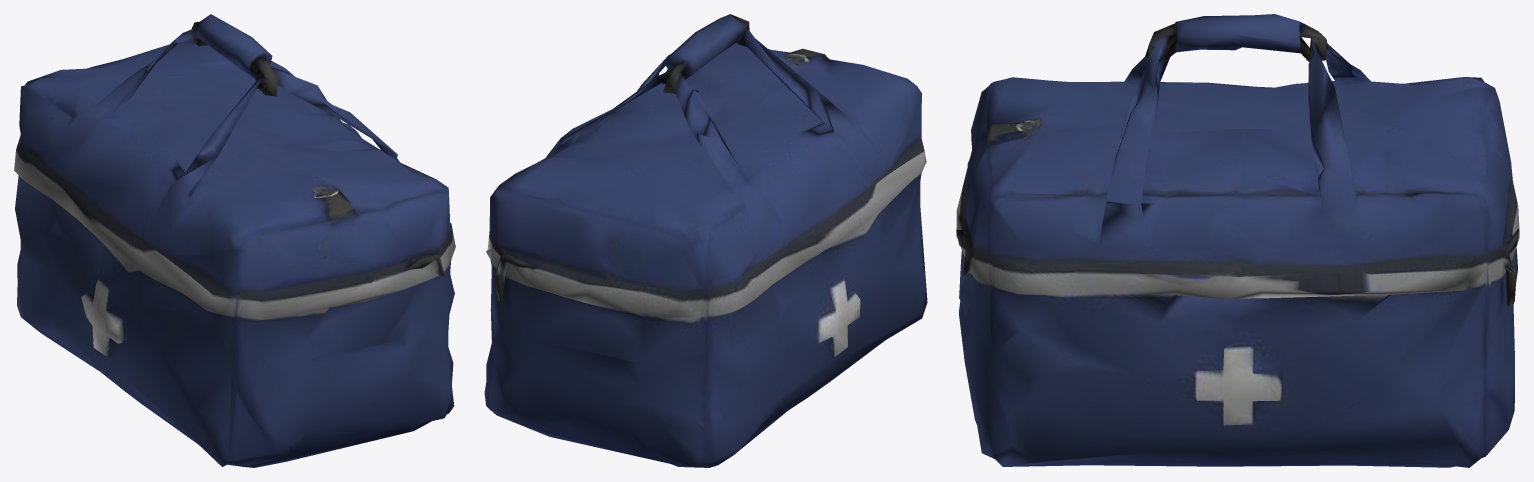
Rendered from bag.glb.
3 renders of one model, left to right at view 1: azimuth 30°, elevation 25°; view 2: azimuth 150°, elevation 25°; view 3: azimuth 270°, elevation 25°, orthographic. The views are drawn at different scales.
Visible parts, largest first — view 1: tripo_node_081dc07f-33e0-40fe-8299-fd58268aa784; view 2: tripo_node_081dc07f-33e0-40fe-8299-fd58268aa784; view 3: tripo_node_081dc07f-33e0-40fe-8299-fd58268aa784.
Boxes of the visible parts, left/top/right/bottom form: tripo_node_081dc07f-33e0-40fe-8299-fd58268aa784: left=14, top=14, right=455, bottom=467; tripo_node_081dc07f-33e0-40fe-8299-fd58268aa784: left=484, top=14, right=927, bottom=467; tripo_node_081dc07f-33e0-40fe-8299-fd58268aa784: left=956, top=14, right=1519, bottom=467.
Size of the model in its own units: 0.2948 by 0.3499 by 0.4518.
Materials: 1 (1 with a texture image).
